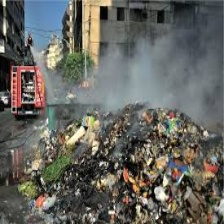smoke: (108, 40, 207, 103)
